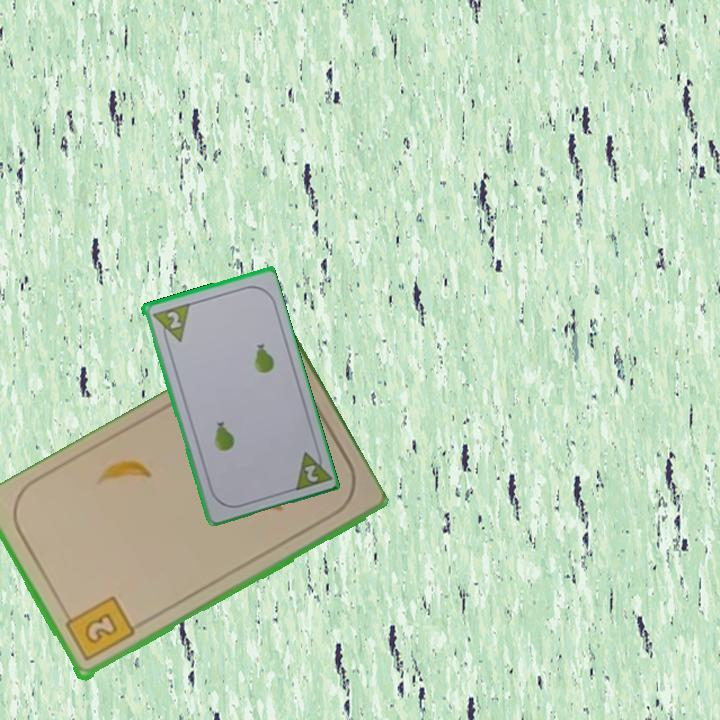2b: (60, 593, 137, 665)
2p: (163, 307, 184, 331), (300, 461, 321, 485)
